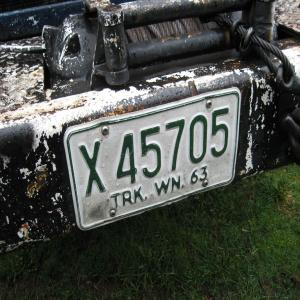Vehicle-registration-plate: (68, 88, 251, 237)
